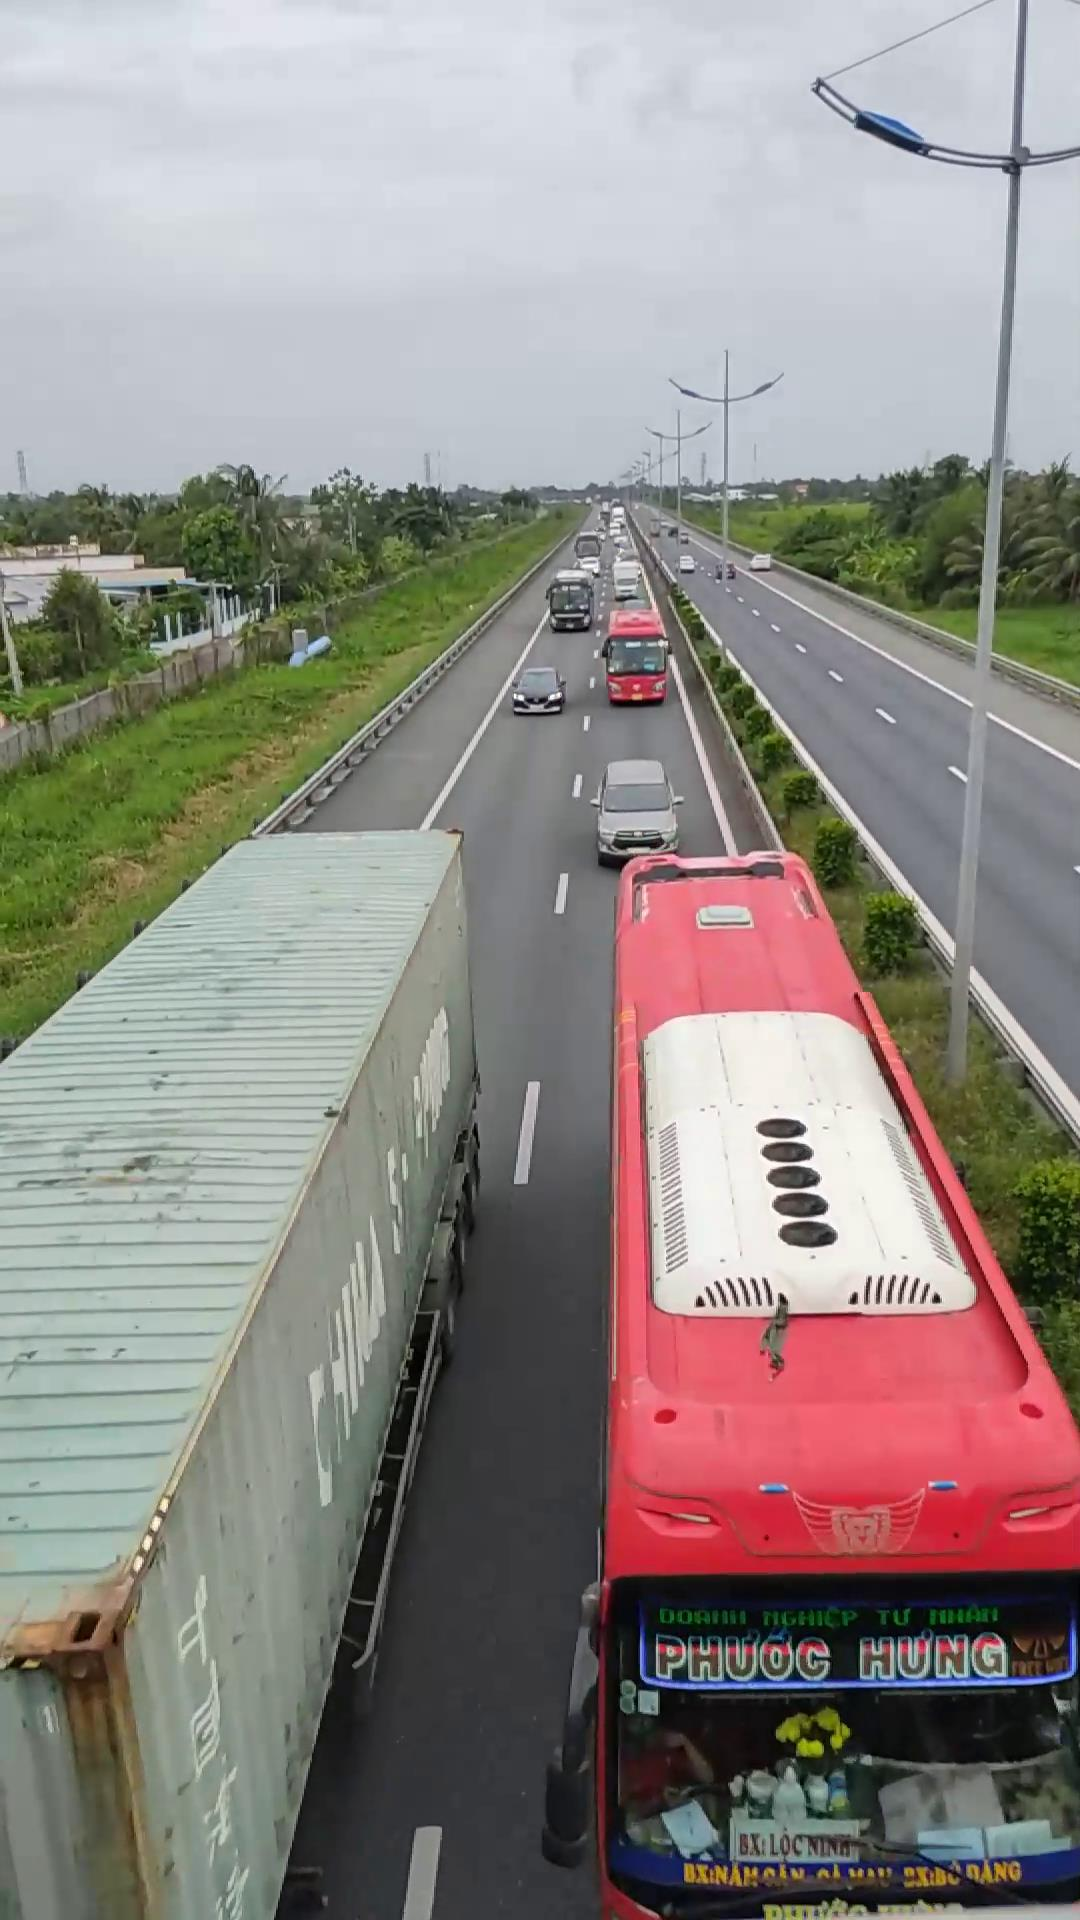bus: (601, 845, 1080, 1793)
car: (587, 760, 680, 865)
container: (0, 822, 475, 1916)
